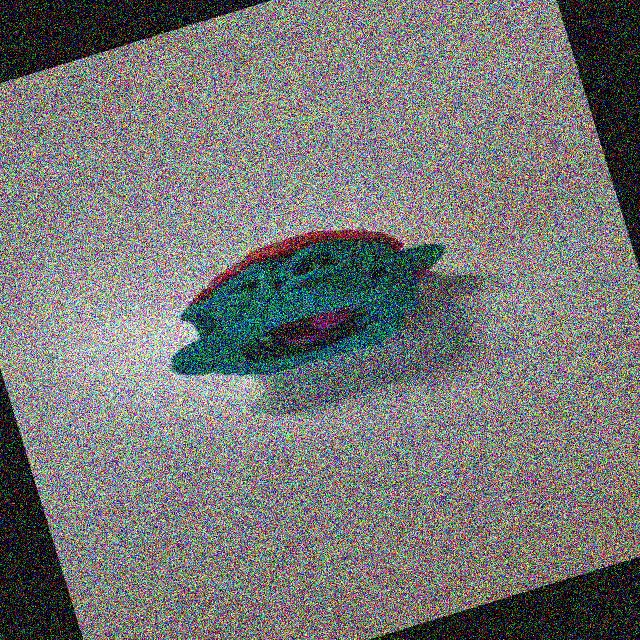House: (120, 163, 522, 448)
